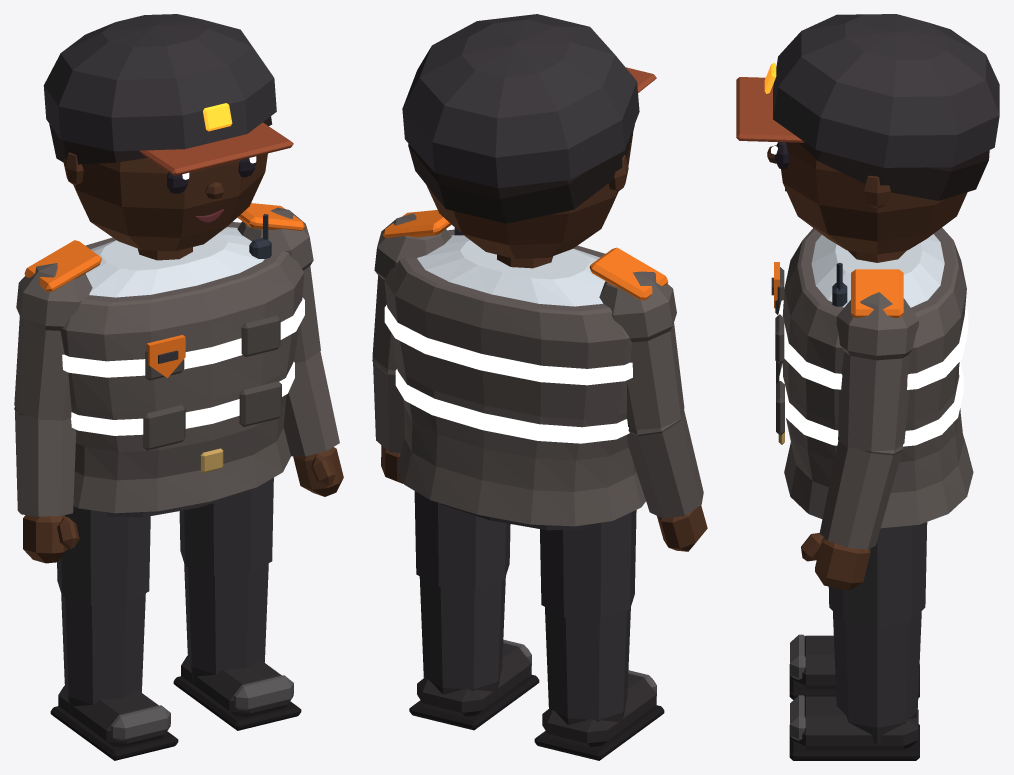
File: sic_emb.glb
3 renders of one model, left to right at view 1: azimuth 30°, elevation 25°; view 2: azimuth 150°, elevation 25°; view 3: azimuth 270°, elevation 25°, orthographic.
Parts seen in each view (by area): view 1: jacke, kopfbedeckung, bein_r, bein_l, arm_r, kopf, arm_l, torso, schuh_l, schuh_r, signalstreifen, taschen (+8 smaller); view 2: jacke, kopfbedeckung, bein_r, bein_l, arm_r, signalstreifen, torso, haare, kopf, arm_l, schuh_r, schuh_l (+2 smaller); view 3: kopfbedeckung, jacke, arm_l, bein_l, kopf, schuh_l, signalstreifen, torso, haare, schuh_r, hand_l, schulterklappen (+3 smaller).
Boxes of the visible parts, x1,y1,x2,y2 form: jacke: (60,222,304,513); kopfbedeckung: (43,14,293,175); bein_r: (57,506,150,704); bein_l: (179,477,273,674); arm_r: (14,263,92,516); kopf: (63,152,267,251); arm_l: (237,207,339,456); torso: (85,227,264,297); schuh_l: (173,655,301,730); schuh_r: (50,685,178,760); signalstreifen: (62,297,304,435); taschen: (143,315,281,450); jacke: (384,229,645,526); kopfbedeckung: (402,14,656,188); bein_r: (540,510,636,719); bein_l: (414,491,510,689); arm_r: (599,271,703,518); signalstreifen: (384,305,632,443); torso: (417,235,605,306); haare: (408,125,634,223); kopf: (426,133,633,258); arm_l: (372,213,451,452); schuh_r: (534,670,664,760); schuh_l: (409,639,539,730); kopfbedeckung: (736,14,999,167); jacke: (782,227,973,528); arm_l: (819,292,918,549); bein_l: (828,522,927,727); kopf: (781,142,967,254); schuh_l: (789,695,919,760); signalstreifen: (778,288,968,446); torso: (811,234,944,307); haare: (799,142,989,200); schuh_r: (789,634,919,699); hand_l: (801,533,870,590); schulterklappen: (851,269,903,317).
Size of the model in its own units: 0.0127 by 0.0259 by 0.00903.
